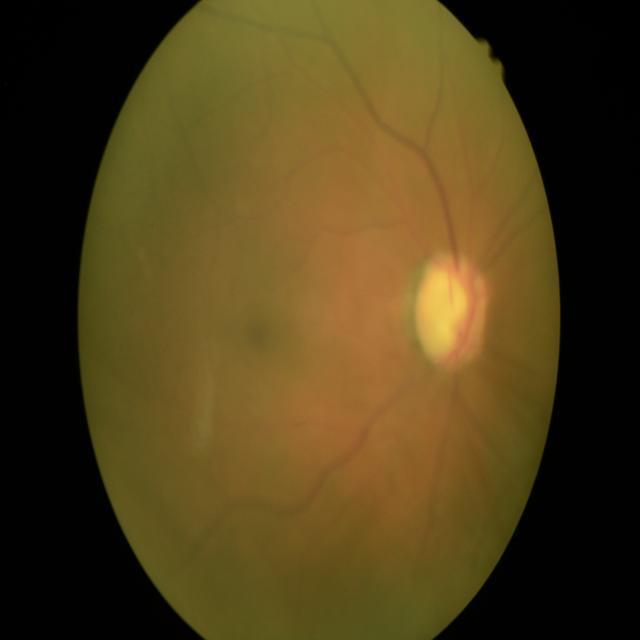cup: (418, 268, 471, 360)
disk: (414, 253, 489, 372)
